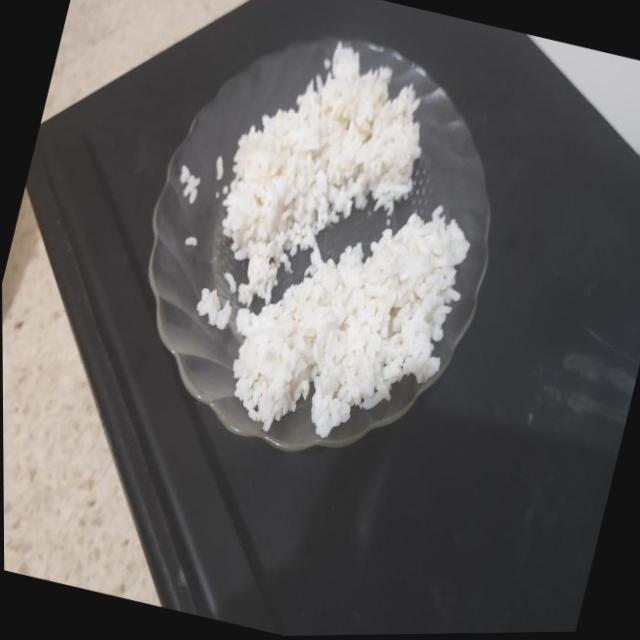nasi_putih: (232, 205, 468, 438), (222, 43, 420, 306)
